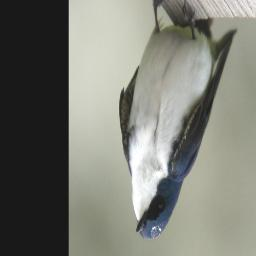Swallow: (118, 0, 237, 241)
